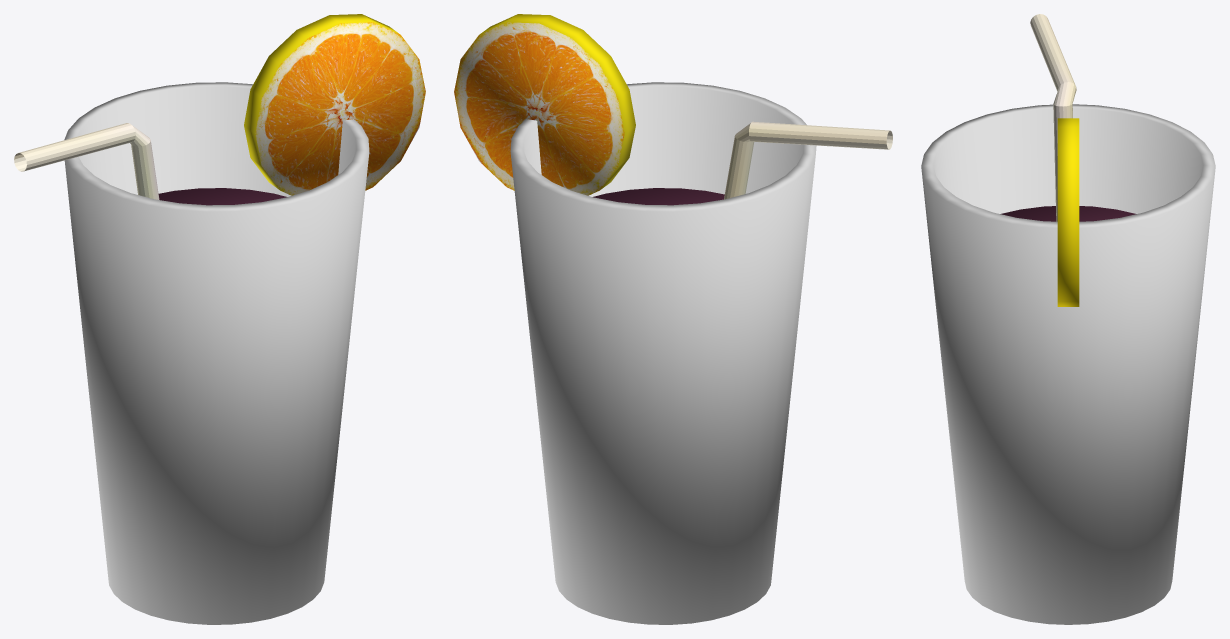
Rendered from smoothie.fbx.
3 renders of one model, left to right at view 1: azimuth 30°, elevation 25°; view 2: azimuth 150°, elevation 25°; view 3: azimuth 270°, elevation 25°, orthographic. The views are drawn at different scales.
Parts seen in each view (by area): view 1: Circle.001; view 2: Circle.001; view 3: Circle.001.
Part boxes in pixels (left/top/right/bottom): Circle.001: left=14, top=14, right=425, bottom=624; Circle.001: left=454, top=14, right=892, bottom=624; Circle.001: left=921, top=14, right=1215, bottom=624.
Size of the model in its own units: 445 by 541 by 284.
